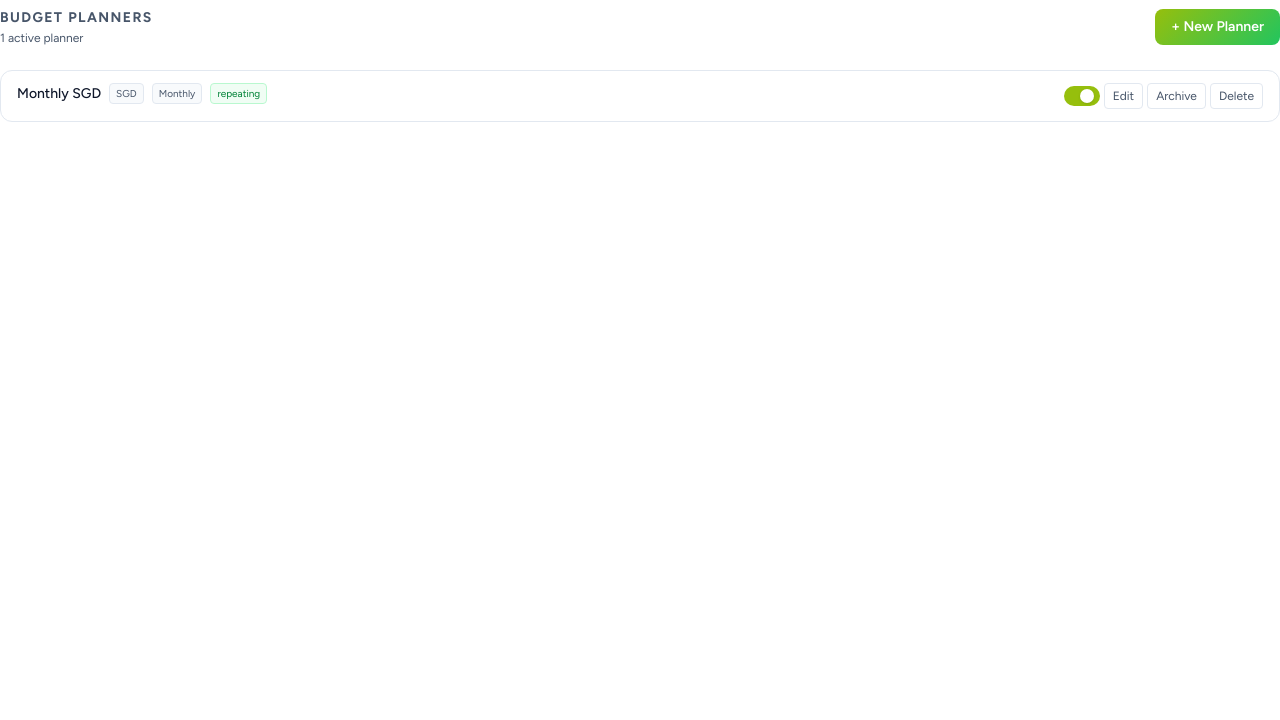
PlannerSettings › opens PlannerForm when New Planner is clicked
Click the button "+ New Planner" at (1218, 27), box [1155,9,1279,45]
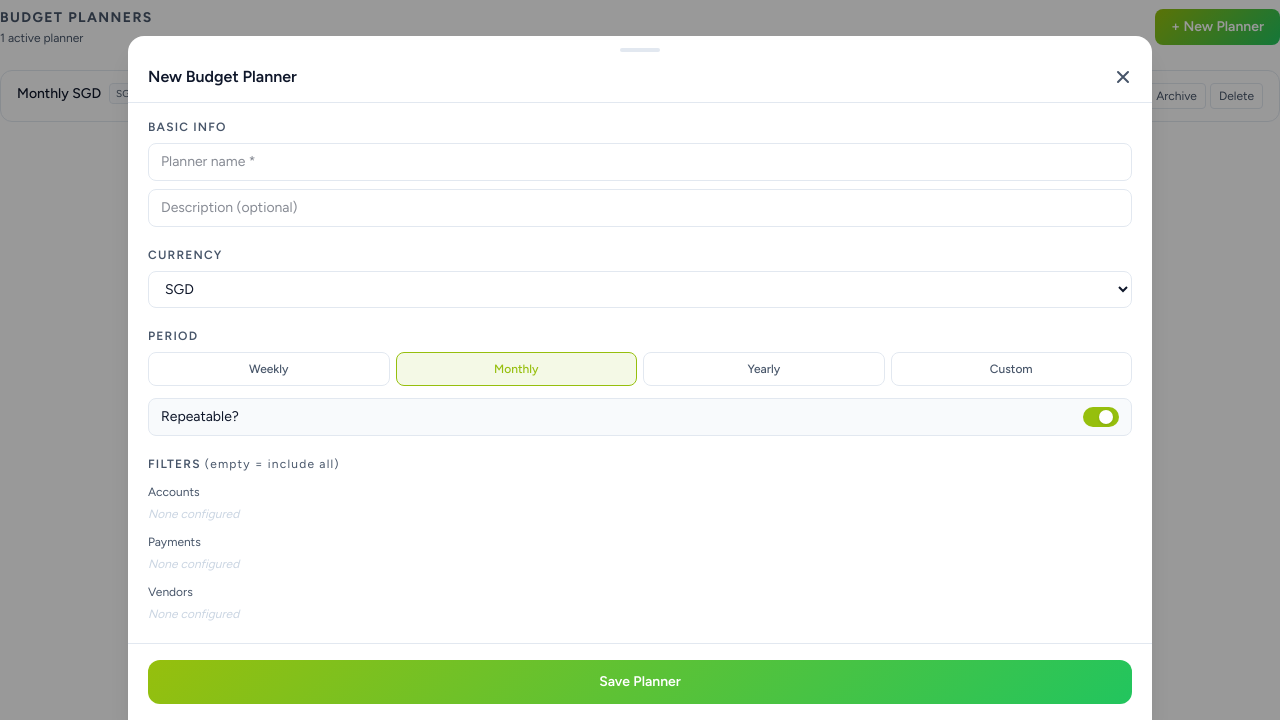
Expected: the dialog is shown
